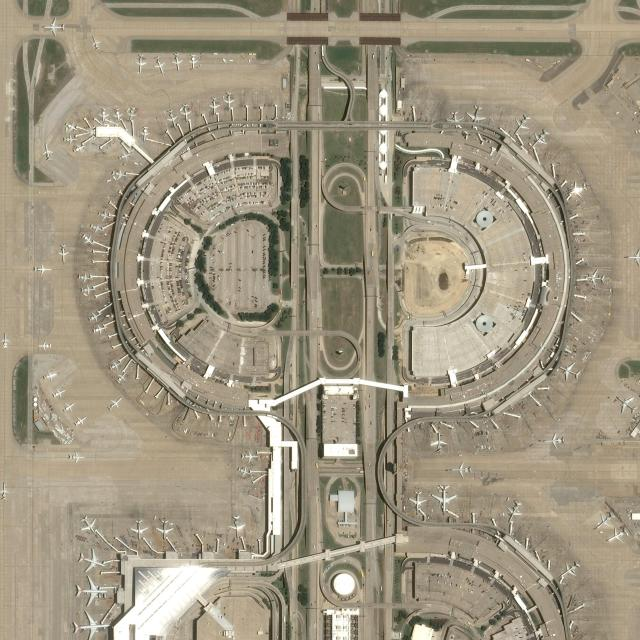1: (625, 246, 640, 267)
aircraft: (67, 608, 111, 639), (71, 573, 108, 608), (430, 482, 456, 514), (76, 548, 105, 572), (463, 102, 488, 126), (226, 512, 246, 540), (153, 515, 174, 541), (592, 508, 615, 531), (75, 512, 98, 535), (558, 360, 582, 382), (614, 393, 638, 415), (407, 488, 427, 514), (560, 558, 582, 580), (41, 16, 65, 36), (542, 430, 566, 450), (428, 430, 448, 454), (530, 127, 551, 149), (567, 177, 587, 200), (511, 112, 530, 136), (449, 459, 473, 478), (504, 498, 523, 522), (606, 524, 628, 544), (444, 108, 464, 128), (130, 518, 148, 540), (585, 268, 606, 286), (164, 106, 179, 128), (56, 242, 70, 265), (239, 448, 259, 464), (207, 95, 221, 117), (170, 51, 184, 72), (152, 53, 166, 74), (221, 90, 235, 111), (31, 262, 52, 276), (106, 394, 124, 410), (235, 462, 253, 478), (133, 53, 147, 73), (179, 102, 193, 122), (39, 142, 53, 162), (88, 33, 102, 51), (66, 449, 84, 463), (89, 323, 108, 336), (59, 132, 79, 144), (76, 270, 93, 284), (106, 357, 123, 371), (0, 479, 10, 502), (125, 105, 137, 123), (112, 106, 124, 124), (88, 222, 106, 234), (78, 284, 96, 296), (81, 232, 95, 247), (114, 369, 128, 384), (37, 339, 53, 352), (138, 124, 150, 141), (111, 168, 128, 180), (85, 310, 102, 322), (51, 386, 66, 399), (186, 52, 198, 68), (62, 120, 78, 132), (41, 369, 57, 381), (72, 415, 88, 427), (97, 107, 109, 122), (0, 331, 10, 348), (117, 149, 131, 161), (72, 143, 86, 154), (96, 210, 110, 220), (62, 402, 76, 412)
